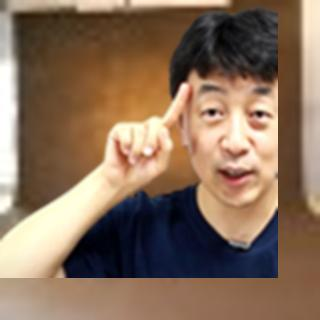IRRITATED: (100, 78, 194, 195)
